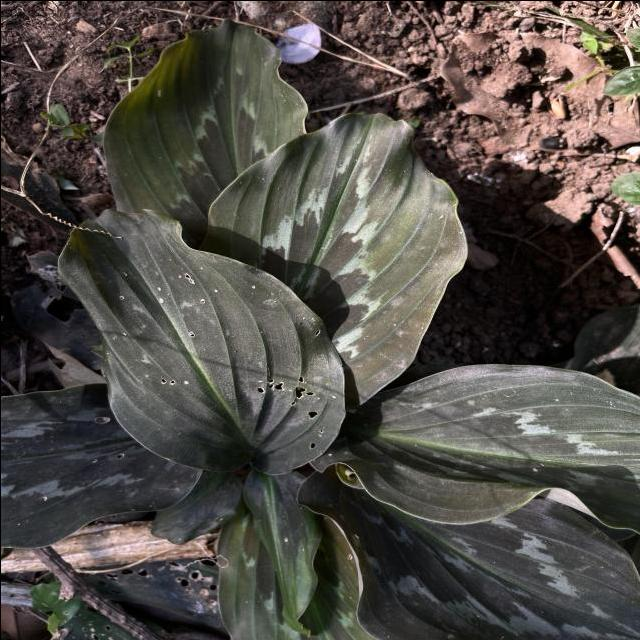Kaempferia galanga linn: (202, 110, 471, 413), (52, 205, 348, 478), (305, 360, 640, 539), (293, 469, 640, 639), (100, 15, 310, 214), (0, 380, 206, 550), (238, 469, 326, 640)
